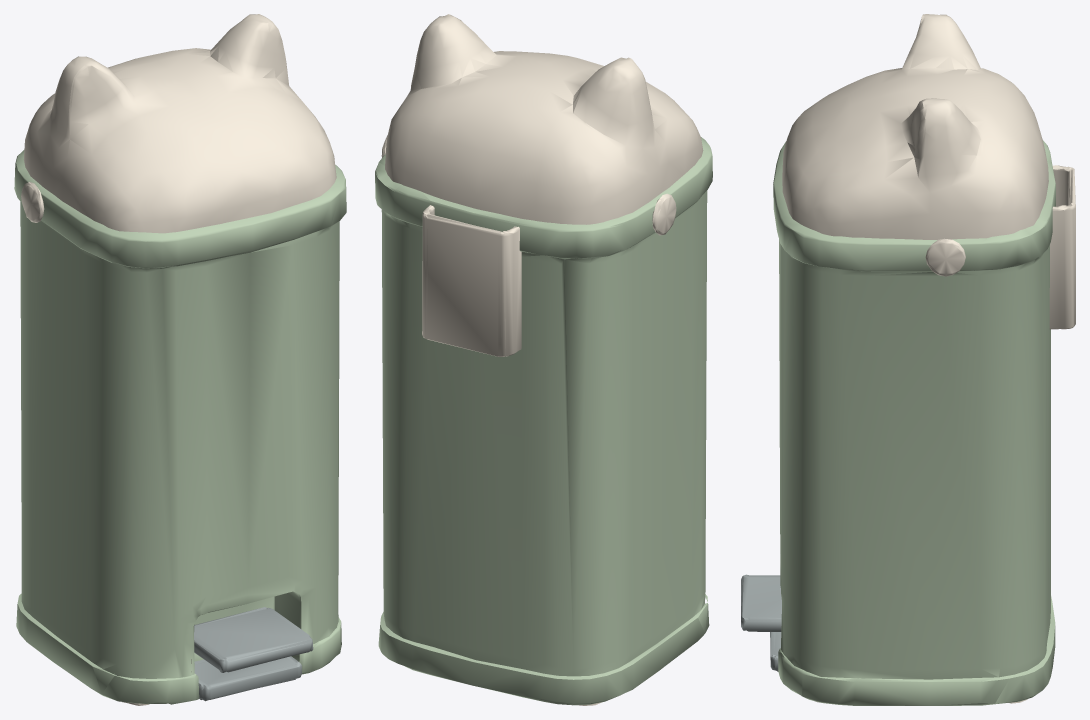
The model's file is kitchen_bin.glb.
3 views of the same model, side by side, from view 1: azimuth 30°, elevation 25°; view 2: azimuth 150°, elevation 25°; view 3: azimuth 270°, elevation 25° (orthographic).
Size of the model in its own units: 0.52 by 1.09 by 0.5551.
